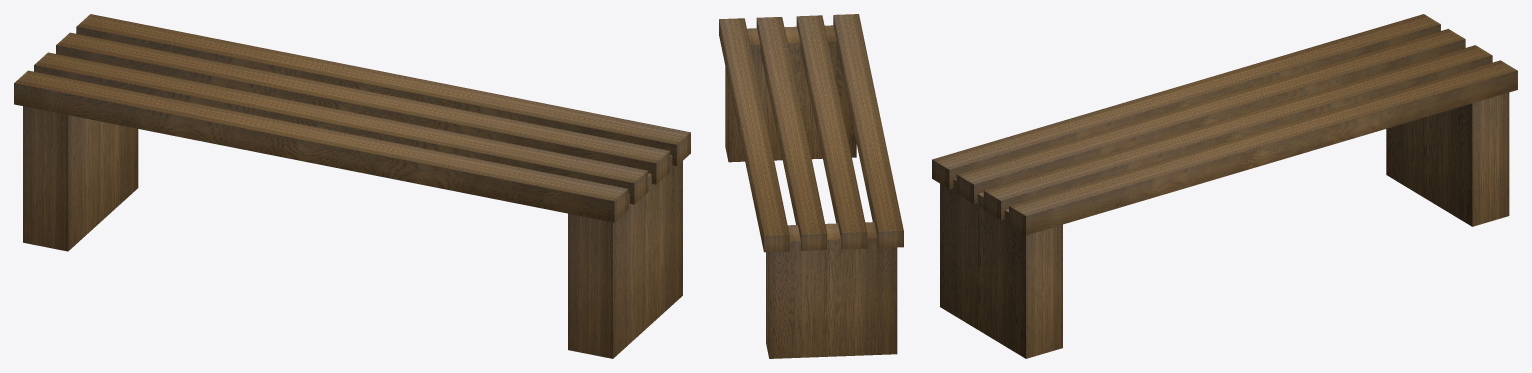
Rendered from Obstacle_056.obj.
3 views of the same model, side by side, from view 1: azimuth 30°, elevation 25°; view 2: azimuth 150°, elevation 25°; view 3: azimuth 270°, elevation 25° (orthographic). The views are drawn at different scales.
Parts seen in each view (by area): view 1: Box186, Box184, Box185; view 2: Box186, Box185, Box184; view 3: Box186, Box184, Box185.
Part boxes in pixels (x1=…): Box186: x1=14, y1=14, x2=690, y2=222; Box184: x1=568, y1=155, x2=682, y2=358; Box185: x1=23, y1=106, x2=138, y2=251; Box186: x1=719, y1=14, x2=903, y2=252; Box185: x1=766, y1=222, x2=897, y2=358; Box184: x1=725, y1=25, x2=856, y2=162; Box186: x1=932, y1=14, x2=1517, y2=235; Box184: x1=940, y1=178, x2=1062, y2=358; Box185: x1=1386, y1=92, x2=1509, y2=226.
Size of the model in its own units: 62.76 by 21.16 by 76.82.
